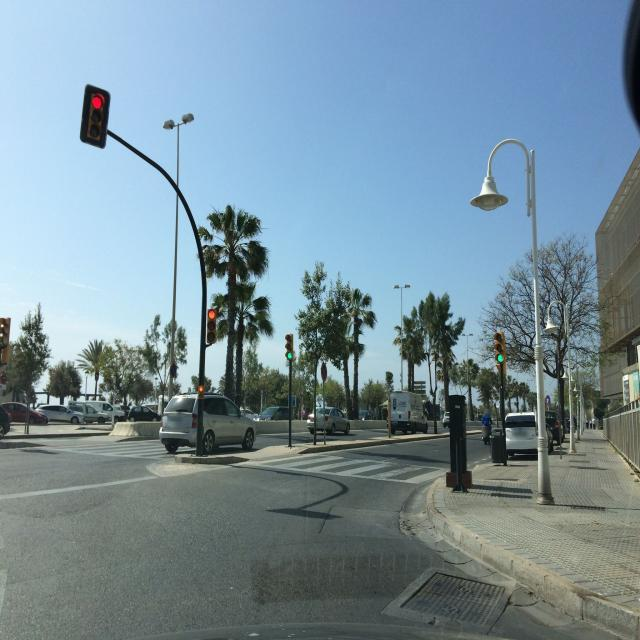forb_stopping: (167, 361, 182, 381)
forb_waiting: (322, 364, 327, 380)
